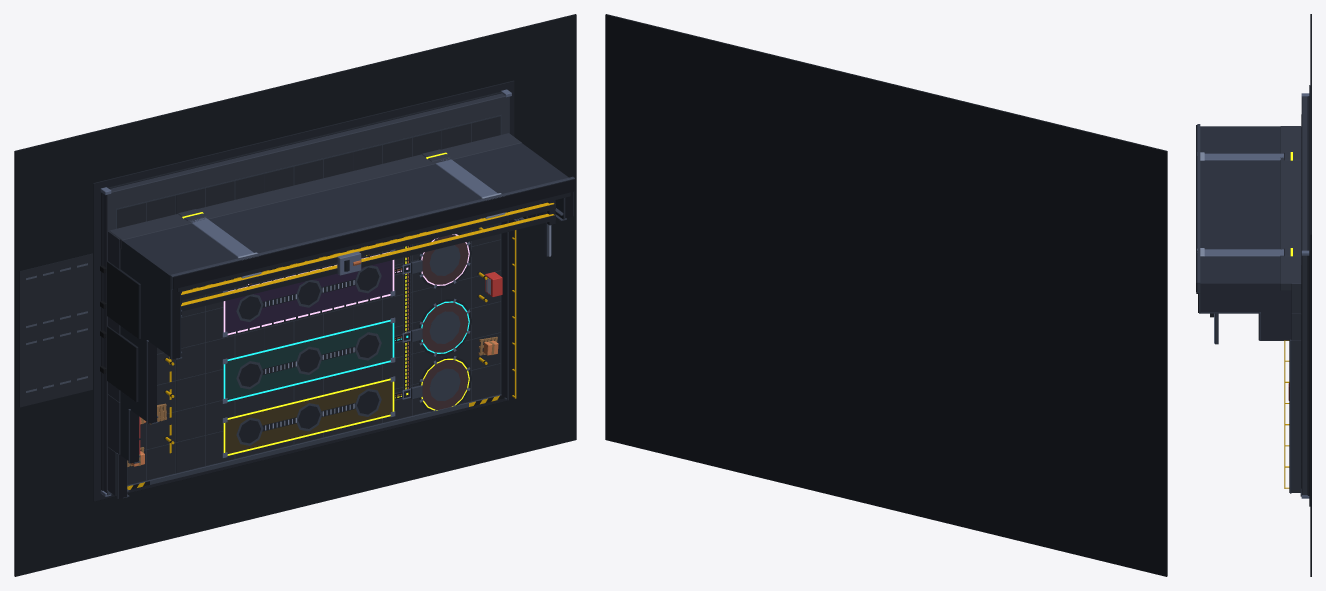
File: FactoryHall_Map.fbx
The picture shows the model from 3 angles, left to right: view 1: azimuth 30°, elevation 25°; view 2: azimuth 150°, elevation 25°; view 3: azimuth 270°, elevation 25°; orthographic projection. The views are drawn at different scales.
Parts seen in each view (by area): view 1: Exterior_Factory_Yard, Floor_Main_Slab, Wall_North_Powerhouse, Wall_West_CargoDock, Zone_Line2_Casings_Cyan, Bridge_Crane_Yellow, Zone_Line1_Gears_Yellow, Zone_Line3_Microchips_Purple, Wall_East_ShippingCurb, Zone_Assembly2_Drive, Zone_Assembly1_Gearbox, Crane_Runway_And_Trusses (+3 smaller); view 2: Exterior_Factory_Yard; view 3: Wall_North_Powerhouse, Wall_East_ShippingCurb, Floor_Main_Slab, Exterior_Factory_Yard, Wall_West_CargoDock.
Boxes of the visible parts, x1,y1,x2,y2 form: Exterior_Factory_Yard: (14,14,576,576); Floor_Main_Slab: (100,89,511,496); Wall_North_Powerhouse: (109,133,575,289); Wall_West_CargoDock: (107,231,182,498); Zone_Line2_Casings_Cyan: (222,317,395,403); Bridge_Crane_Yellow: (181,200,555,314); Zone_Line1_Gears_Yellow: (222,376,395,457); Zone_Line3_Microchips_Purple: (222,249,395,337); Wall_East_ShippingCurb: (501,143,573,400); Zone_Assembly2_Drive: (411,298,471,356); Zone_Assembly1_Gearbox: (411,356,471,411); Crane_Runway_And_Trusses: (177,192,570,291); Exterior_Factory_Yard: (605,14,1167,576); Wall_North_Powerhouse: (1196,124,1301,293); Wall_East_ShippingCurb: (1198,281,1301,493); Floor_Main_Slab: (1300,93,1309,498); Exterior_Factory_Yard: (1309,14,1311,576); Wall_West_CargoDock: (1200,126,1280,129).
Size of the model in its own units: 38 by 27.5 by 8.43.
